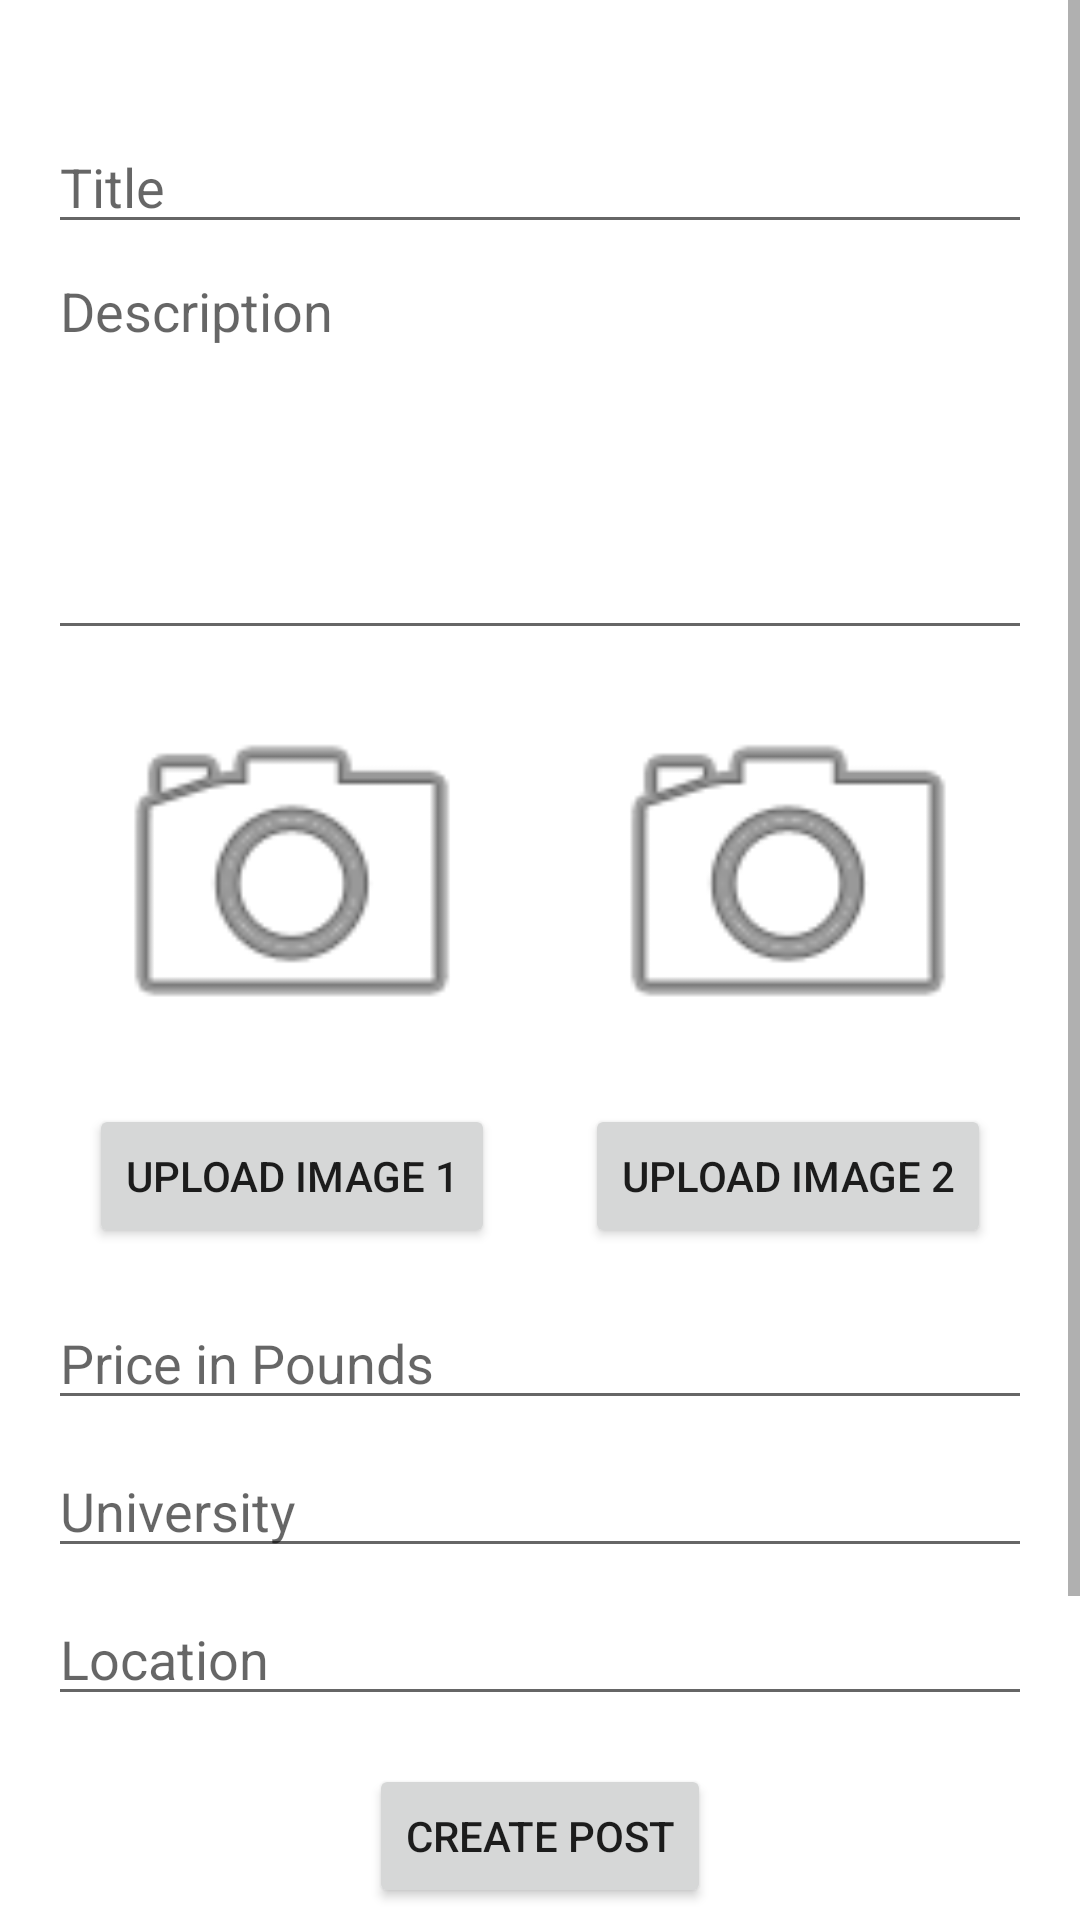

Named icons in this screenshot (1080*1920) and their bounding boxes, BBox(x1, y1, x2, y2):
camera: BBox(135, 745, 449, 996), BBox(631, 745, 945, 996)
